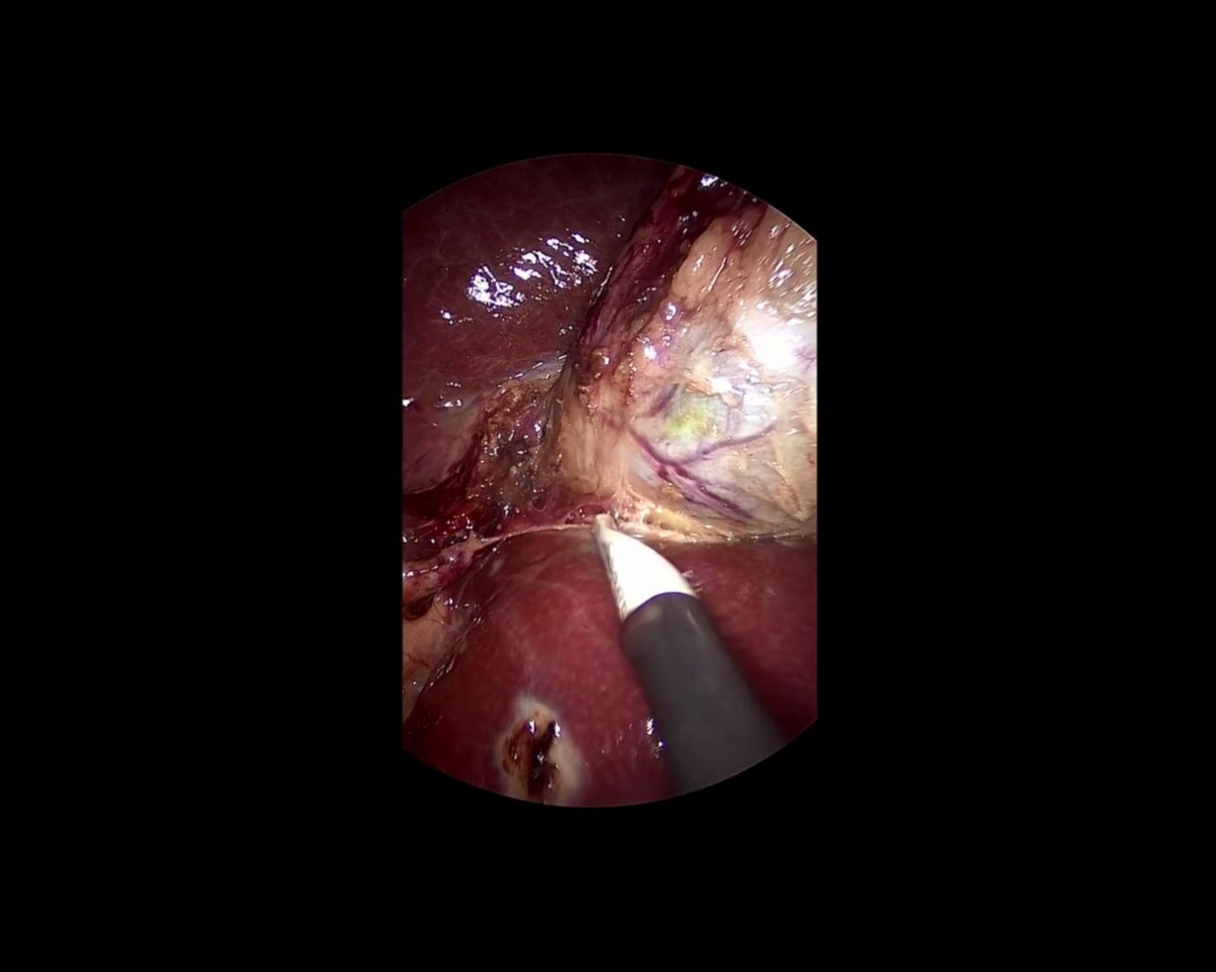Cautery: (564, 480, 788, 795)
Gallbladder: (561, 166, 813, 546)
Liver: (284, 63, 672, 523), (405, 525, 825, 822)
